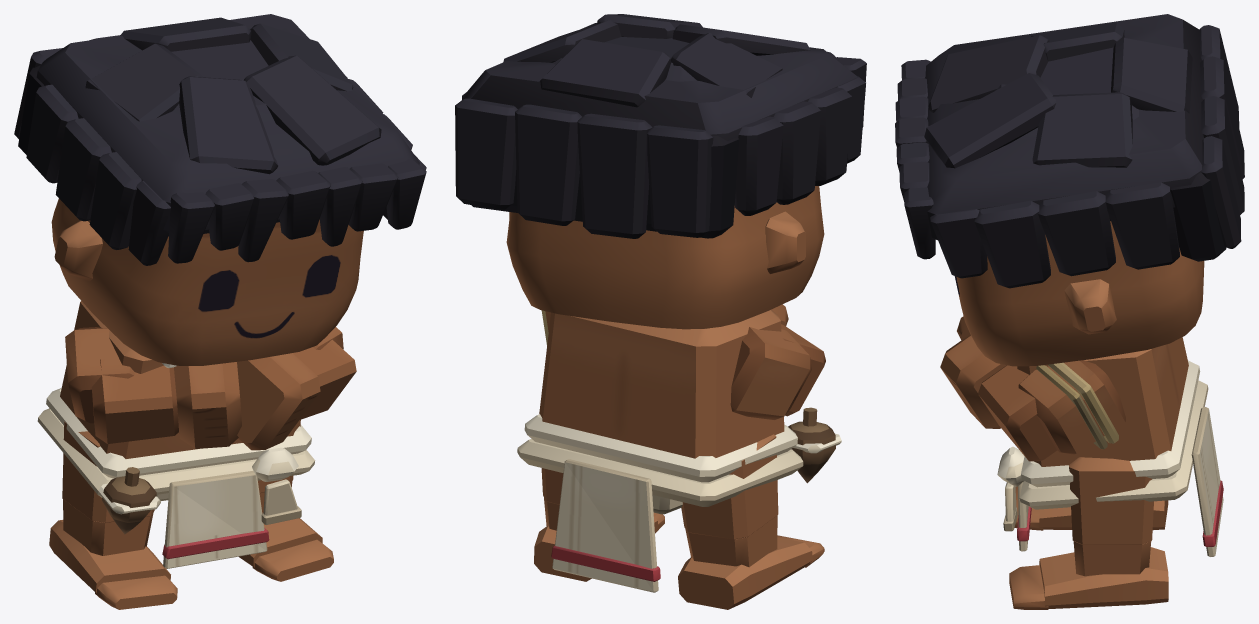
File: audience_v2_boy_clap.glb
The picture shows the model from 3 angles, left to right: view 1: azimuth 30°, elevation 25°; view 2: azimuth 150°, elevation 25°; view 3: azimuth 270°, elevation 25°; orthographic projection. The views are drawn at different scales.
Parts seen in each view (by area): view 1: audience_v2_boy_clap; view 2: audience_v2_boy_clap; view 3: audience_v2_boy_clap.
Boxes of the visible parts, bbox=[...] form: audience_v2_boy_clap: bbox=[14, 14, 426, 609]; audience_v2_boy_clap: bbox=[455, 14, 866, 609]; audience_v2_boy_clap: bbox=[895, 14, 1244, 609].
Bounding box in the file's own units: 0.3942 × 0.6486 × 0.3974.
1 material, 1 textured.
